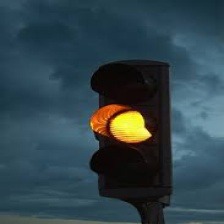semaforo: (90, 60, 173, 198)
